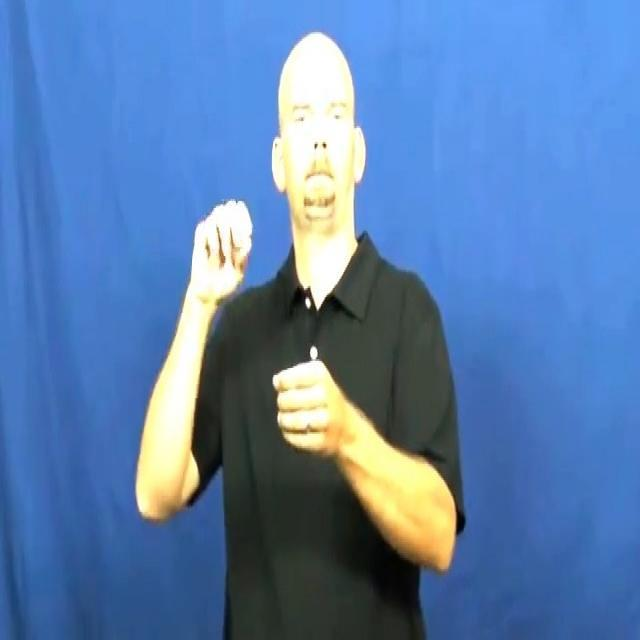soda: (188, 194, 348, 469)
